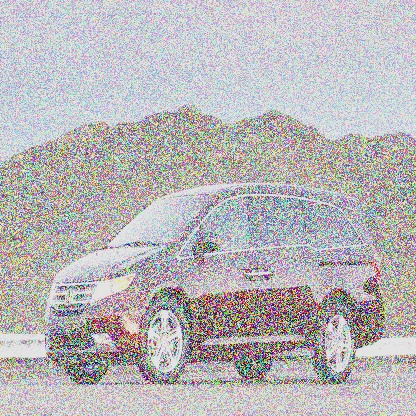Vehicle: (42, 178, 387, 387)
